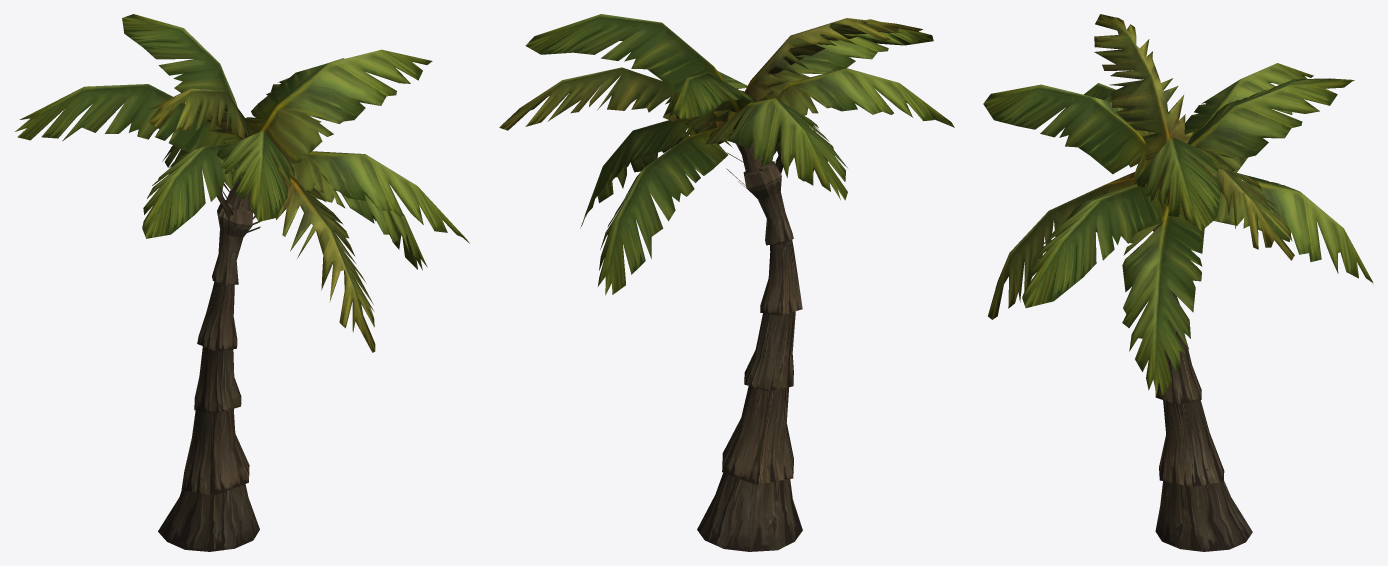
The model's file is cardia_natural_palmtree01_02.FBX.
The picture shows the model from 3 angles, left to right: view 1: azimuth 30°, elevation 25°; view 2: azimuth 150°, elevation 25°; view 3: azimuth 270°, elevation 25°; orthographic projection. The views are drawn at different scales.
Visible parts, largest first — view 1: cardia_natural_palmtree01_02; view 2: cardia_natural_palmtree01_02; view 3: cardia_natural_palmtree01_02.
Boxes of the visible parts, x1=… form: cardia_natural_palmtree01_02: x1=15, y1=14, x2=469, y2=551; cardia_natural_palmtree01_02: x1=499, y1=14, x2=954, y2=551; cardia_natural_palmtree01_02: x1=983, y1=14, x2=1373, y2=551.
Bounding box in the file's own units: 5.72 × 7.3 × 5.48.
